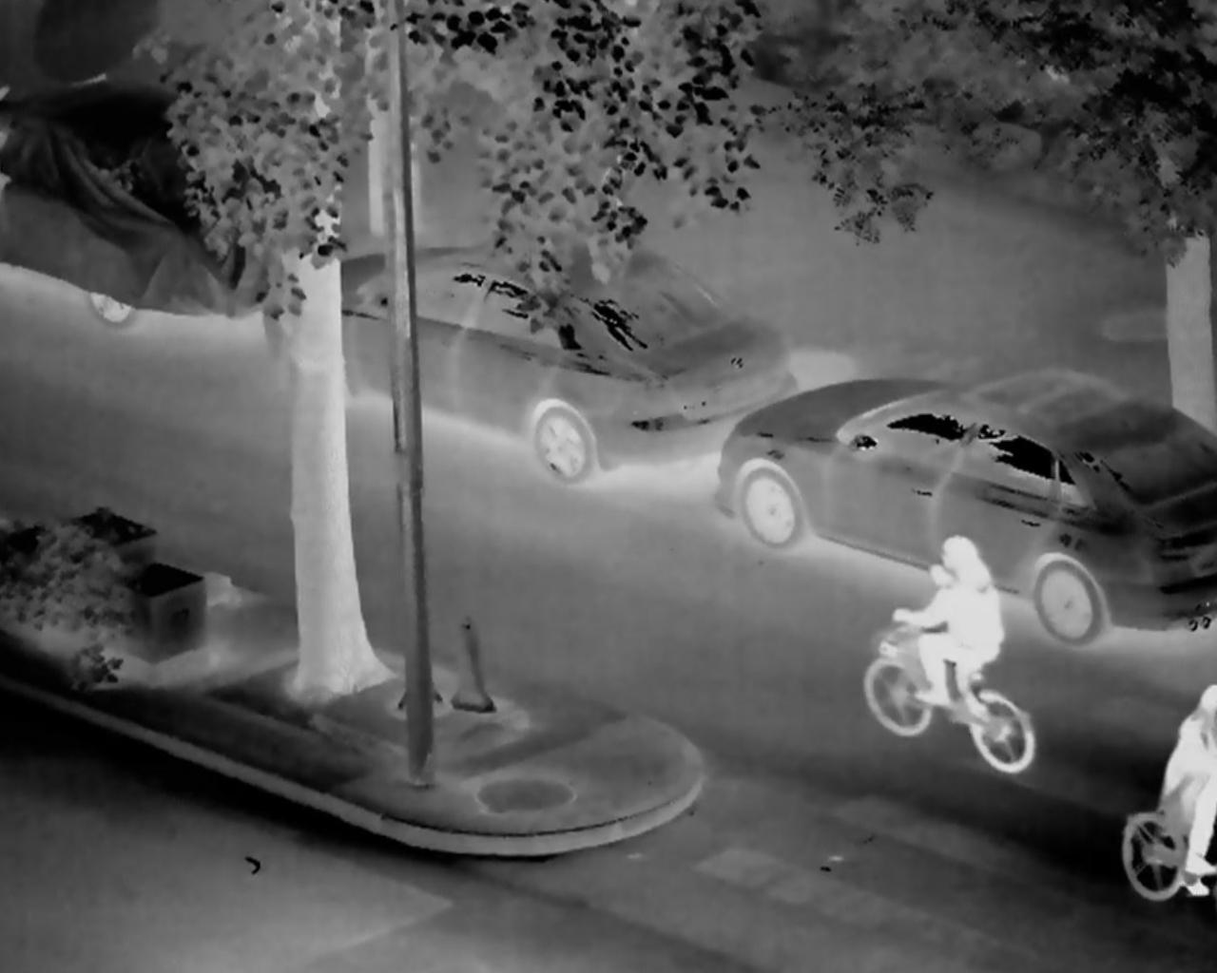person: (875, 525, 1000, 760), (1105, 668, 1217, 906)
